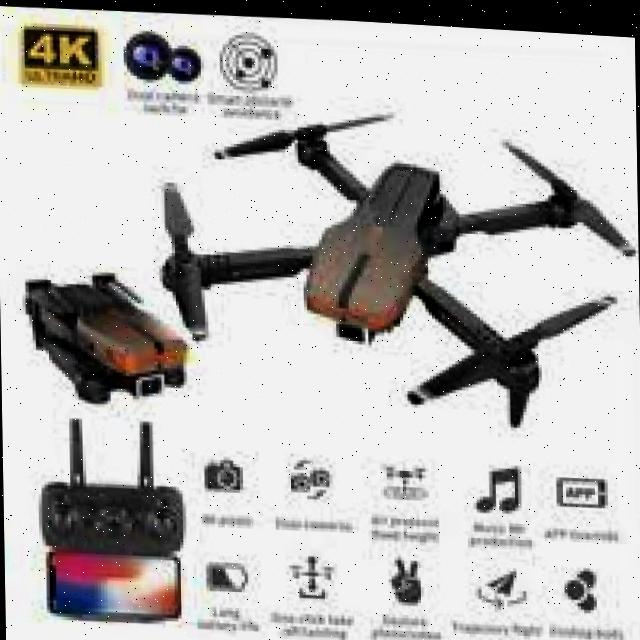drone: (160, 98, 631, 439)
